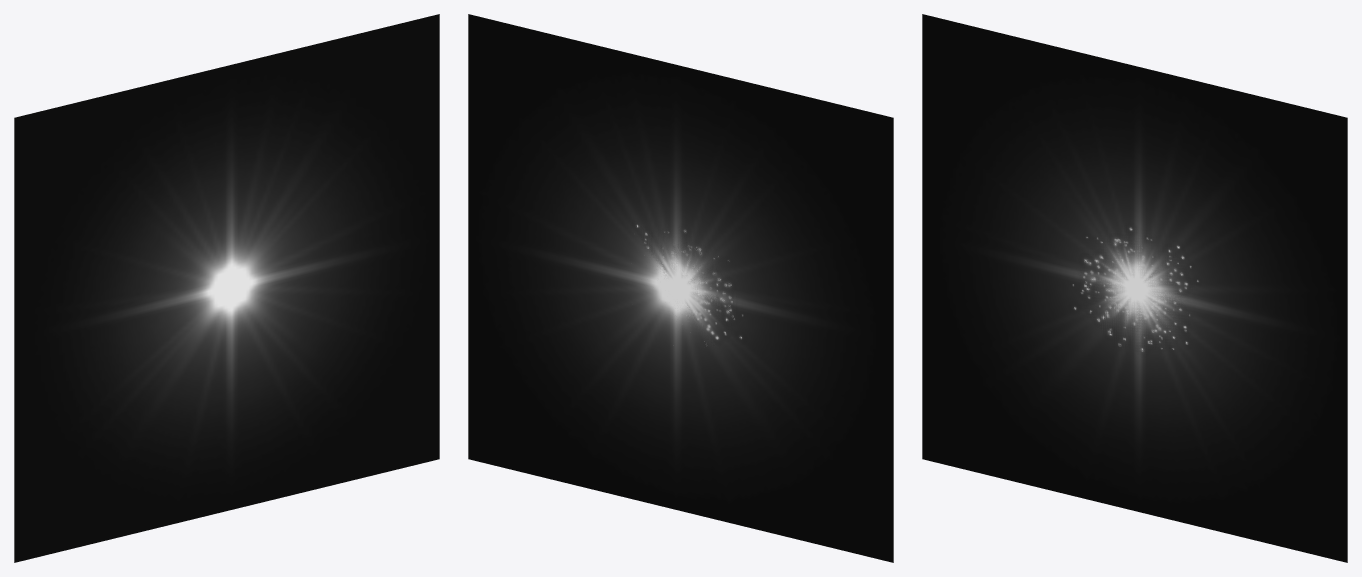
File: si_eoa_0190.glb
3 views of the same model, side by side, from view 1: azimuth 30°, elevation 25°; view 2: azimuth 150°, elevation 25°; view 3: azimuth 330°, elevation 25° (orthographic).
Parts seen in each view (by area): view 1: layer_00_si_est_0002; view 2: layer_00_si_est_0002, layer_01_si_est_0004, layer_02_si_est_0200; view 3: layer_00_si_est_0002, layer_01_si_est_0004, layer_02_si_est_0200.
Boxes of the visible parts, left/top/right/bottom form: layer_00_si_est_0002: left=14, top=14, right=439, bottom=562; layer_00_si_est_0002: left=468, top=14, right=893, bottom=562; layer_01_si_est_0004: left=650, top=237, right=728, bottom=338; layer_02_si_est_0200: left=634, top=222, right=743, bottom=341; layer_00_si_est_0002: left=922, top=14, right=1347, bottom=562; layer_01_si_est_0004: left=1084, top=236, right=1186, bottom=342; layer_02_si_est_0200: left=1072, top=226, right=1199, bottom=352.
Size of the model in its own units: 145 by 145 by 1.1e-05.
3 materials, 3 textured.
